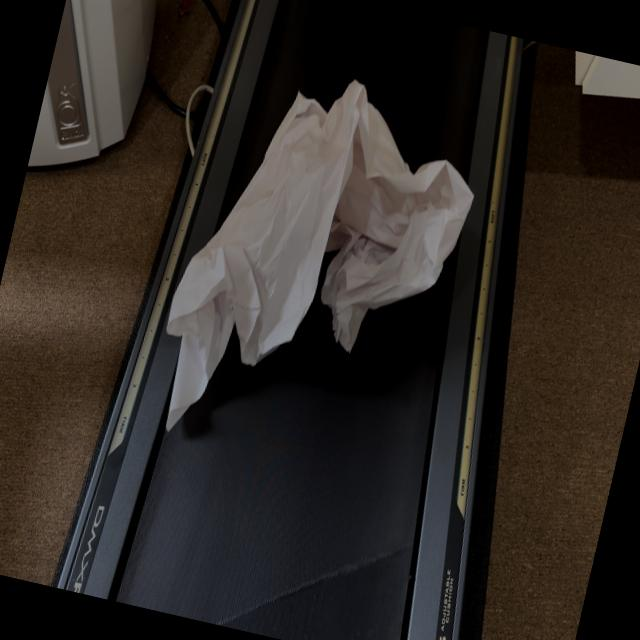Recycle: (141, 44, 496, 490)
